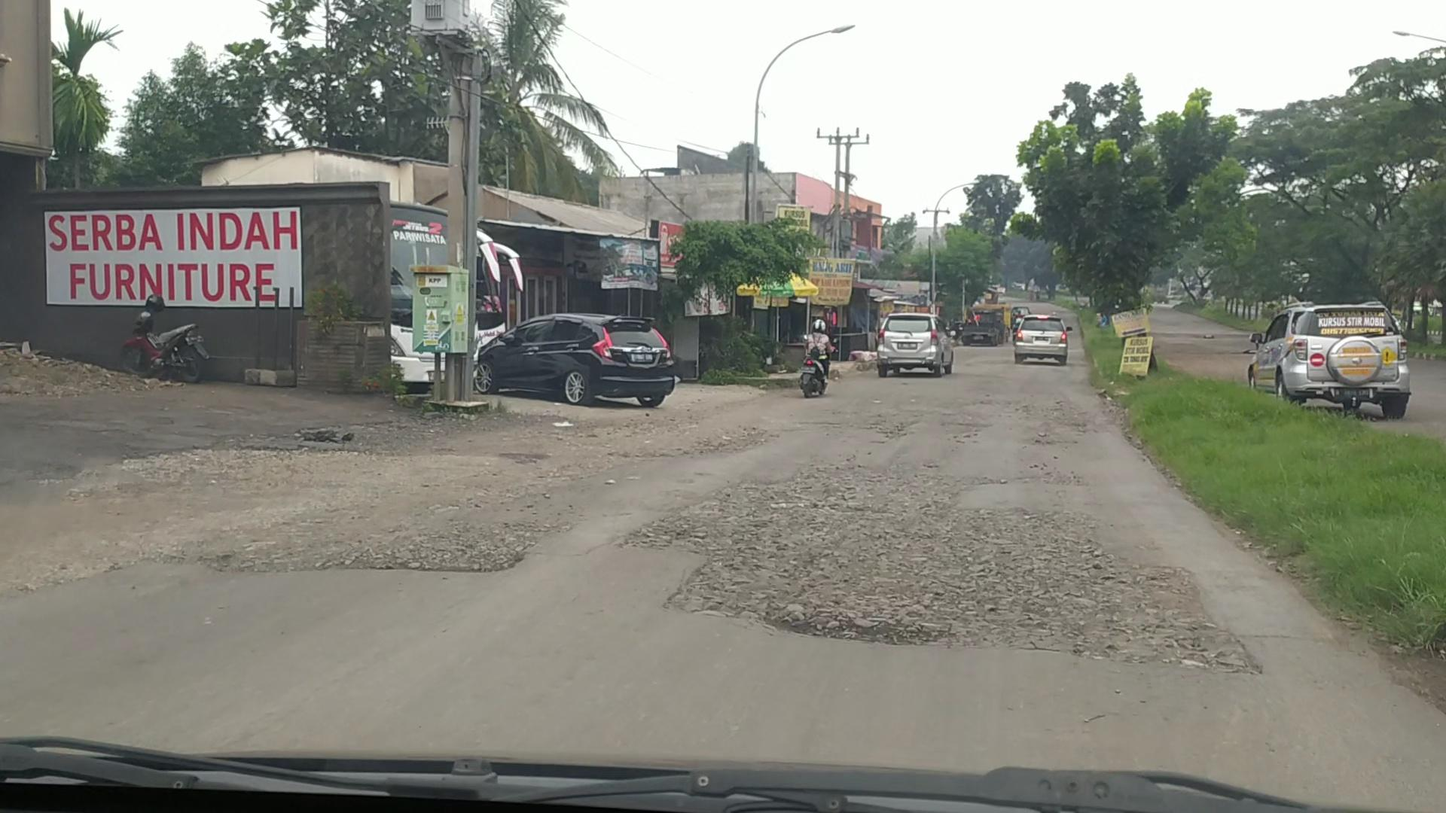pothole: (667, 464, 1242, 665), (217, 493, 566, 582)
